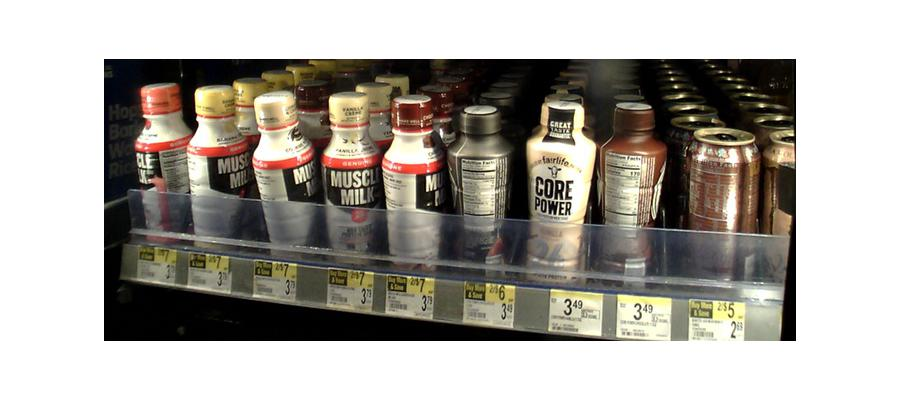bottle: (524, 99, 596, 278), (598, 105, 666, 283), (383, 101, 446, 272), (447, 107, 512, 271), (252, 95, 319, 253), (686, 127, 754, 280), (320, 92, 381, 257), (189, 86, 253, 243), (134, 79, 188, 245)
